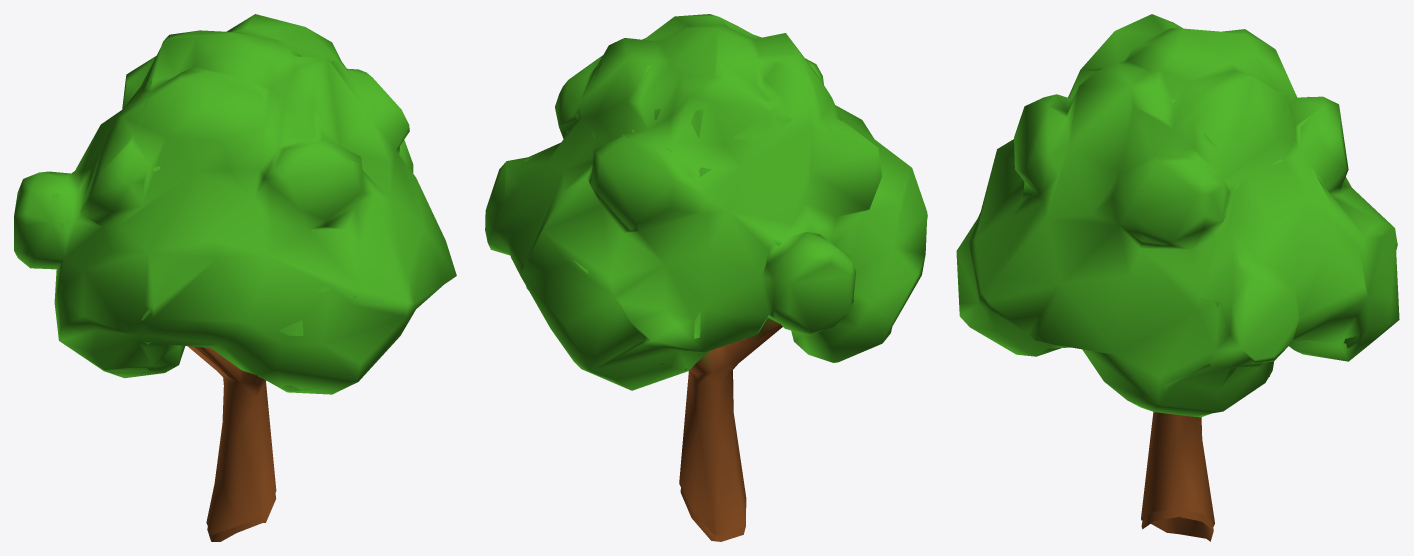
File: gen3d-apple-tree-lod1.glb
3 renders of one model, left to right at view 1: azimuth 30°, elevation 25°; view 2: azimuth 150°, elevation 25°; view 3: azimuth 270°, elevation 25°, orthographic. The views are drawn at different scales.
Visible parts, largest first — view 1: part_0; view 2: part_0; view 3: part_0.
Part boxes in pixels (x1=…): part_0: x1=14, y1=14, x2=456, y2=541; part_0: x1=485, y1=14, x2=927, y2=541; part_0: x1=956, y1=14, x2=1399, y2=541.
Size of the model in its own units: 0.7933 by 0.9999 by 0.7756.
